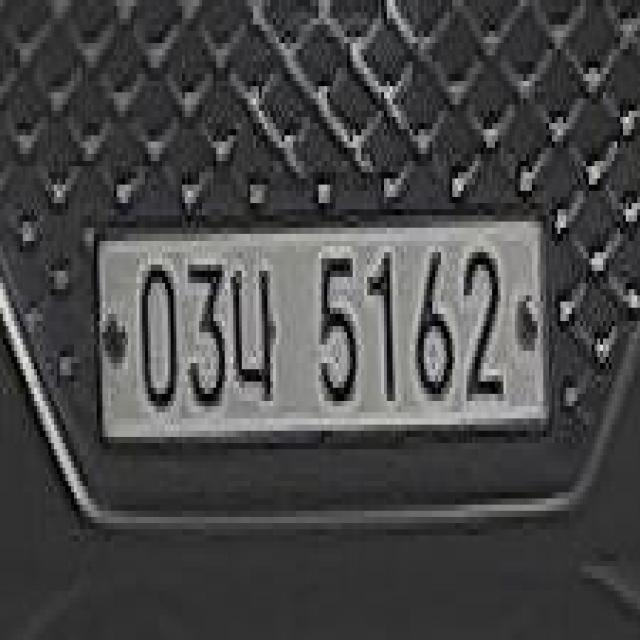illegal_plate: (96, 199, 546, 457)
